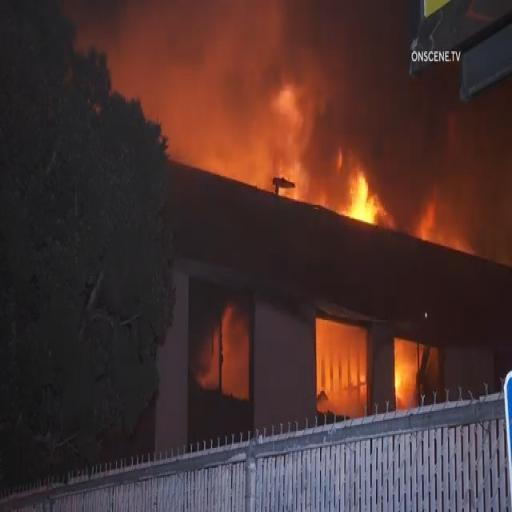fire: (350, 176, 378, 222)
